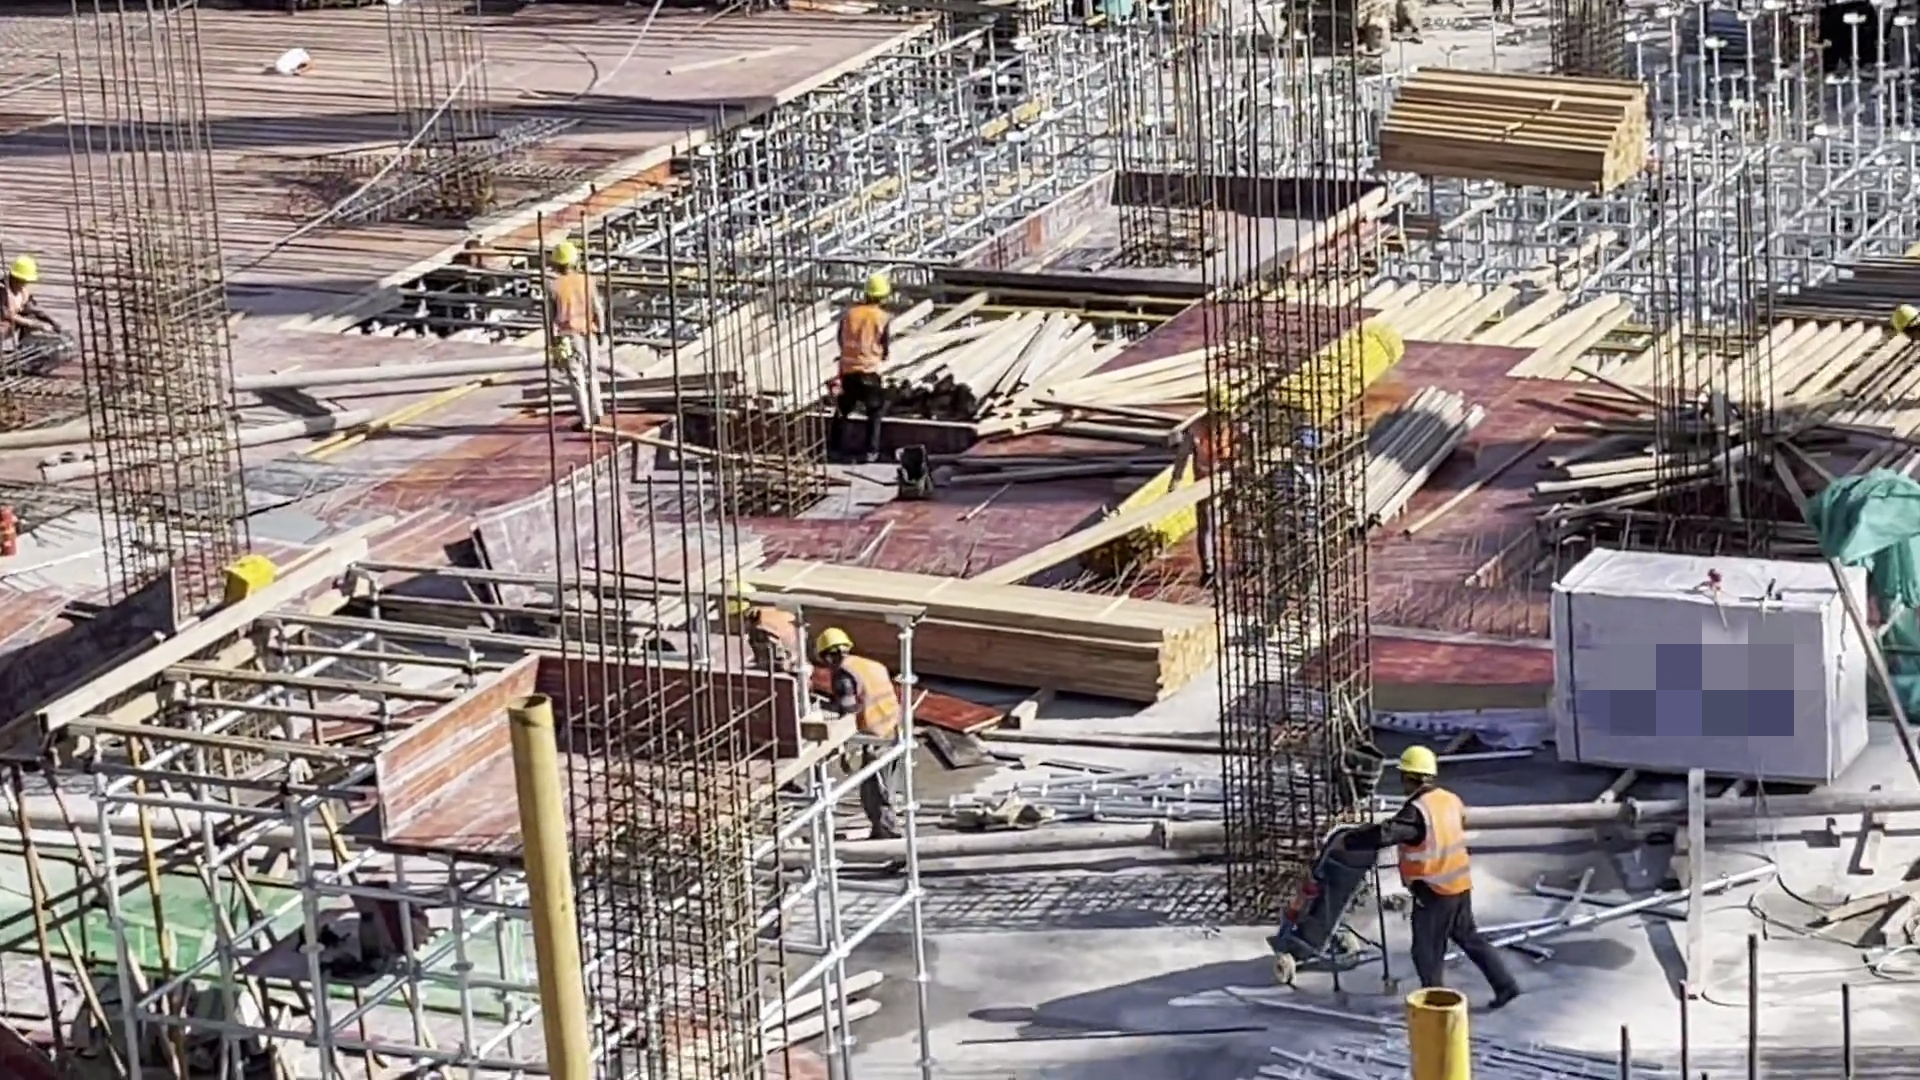helmet: (1391, 745, 1438, 787), (546, 239, 587, 271), (1, 254, 46, 284), (814, 623, 851, 656), (862, 269, 892, 298)
person: (1369, 738, 1522, 1009), (814, 620, 910, 848), (1173, 378, 1249, 582), (538, 239, 613, 427), (831, 271, 895, 464), (727, 583, 805, 693), (1, 254, 68, 360)
vest: (1400, 789, 1473, 896), (832, 657, 900, 746), (837, 301, 890, 375), (546, 275, 601, 342)
